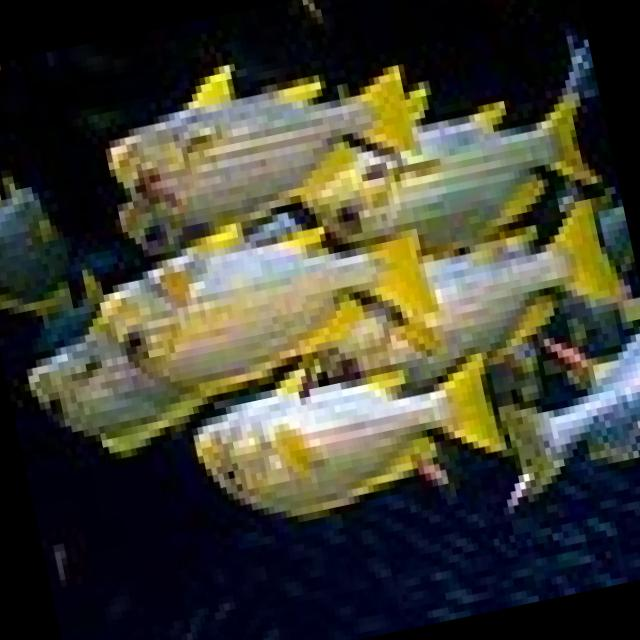RibbonedSweetlips: (85, 187, 442, 415), (280, 194, 638, 410), (90, 28, 425, 247), (180, 322, 510, 536), (290, 84, 604, 276), (18, 302, 213, 472)
